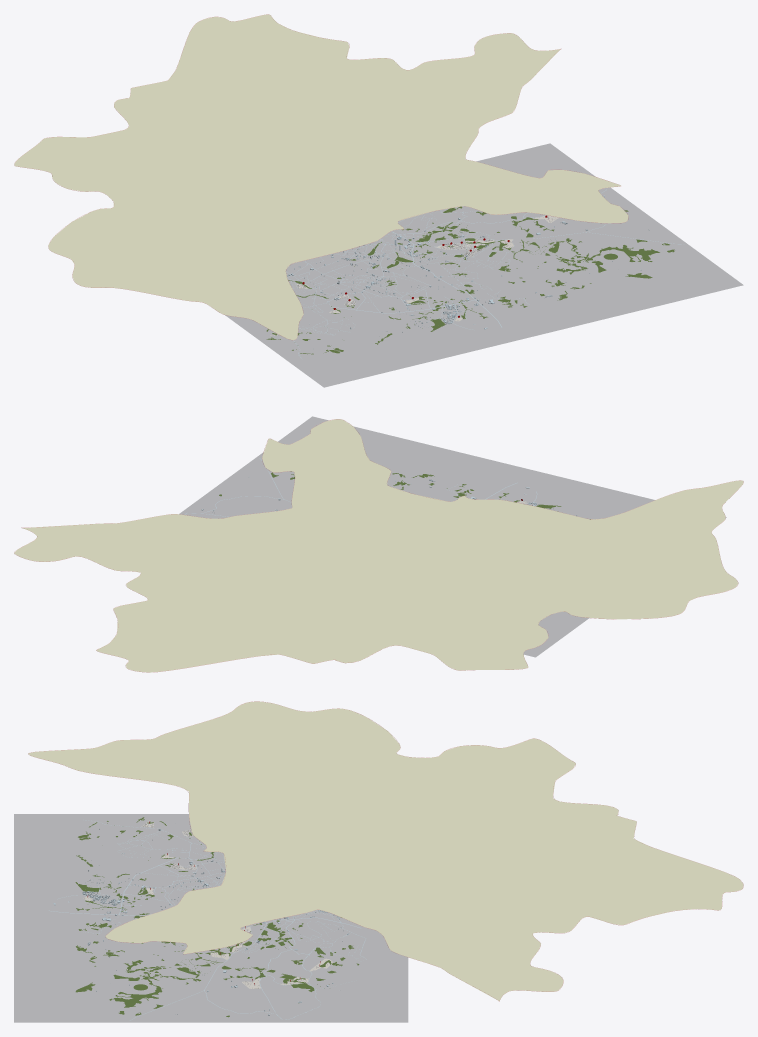
File: map25.glb
3 views of the same model, one above another, from view 1: azimuth 30°, elevation 25°; view 2: azimuth 150°, elevation 25°; view 3: azimuth 270°, elevation 25° (orthographic). The views are drawn at different scales.
Parts seen in each view (by area): view 1: Goiania.001, Chao, Vegetacao, Goiania, Construcoes, 1-RuasPrincipais; view 2: Goiania.001, Chao, Goiania; view 3: Goiania.001, Chao, Vegetacao, Goiania, 1-RuasPrincipais, Construcoes.
Part boxes in pixels (left/top/right/bottom): Goiania.001: left=14, top=14, right=628, bottom=340; Chao: left=225, top=143, right=743, bottom=387; Vegetacao: left=266, top=206, right=674, bottom=354; Goiania: left=14, top=14, right=628, bottom=340; Construcoes: left=287, top=195, right=649, bottom=332; 1-RuasPrincipais: left=303, top=188, right=681, bottom=329; Goiania.001: left=14, top=419, right=743, bottom=672; Chao: left=179, top=416, right=726, bottom=657; Goiania: left=14, top=419, right=743, bottom=672; Goiania.001: left=28, top=701, right=743, bottom=1000; Chao: left=14, top=814, right=408, bottom=1022; Vegetacao: left=75, top=817, right=359, bottom=1017; Goiania: left=28, top=701, right=743, bottom=1001; 1-RuasPrincipais: left=49, top=843, right=360, bottom=1020; Construcoes: left=53, top=828, right=349, bottom=1015.
Bounding box in the file's own units: 1287 × 97.83 × 1321.
